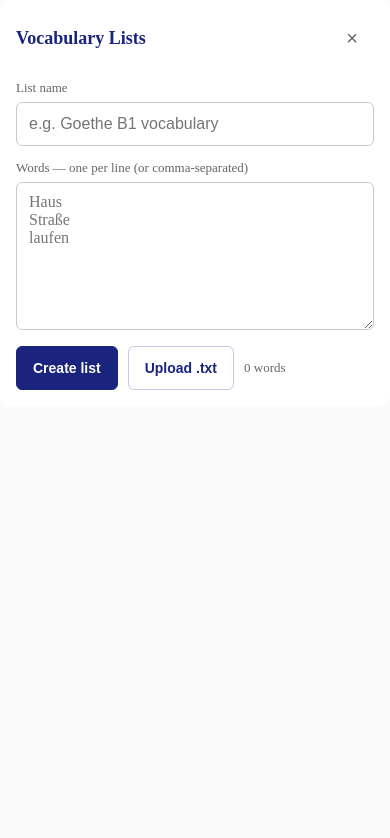
Test: WordListsPage › explains ambiguous entries separately from unresolved ones
This screenshot has width=390, height=838.
In the text box with test id "word-list-input": (195, 256) [16,182,374,330], type "Bank"
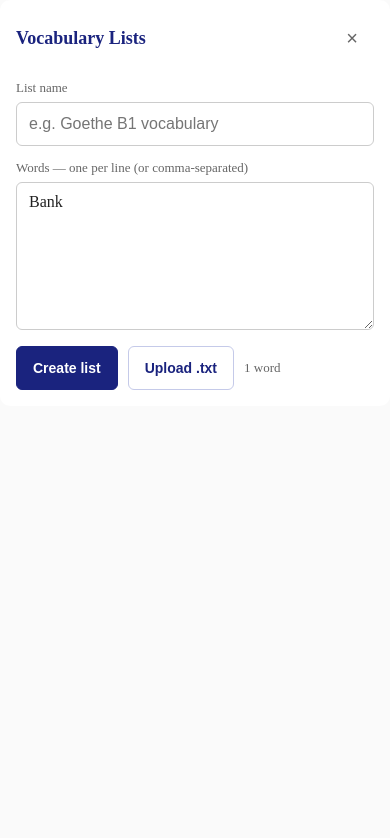
Click the button with test id "word-list-create": click(67, 368) [16,346,118,390]
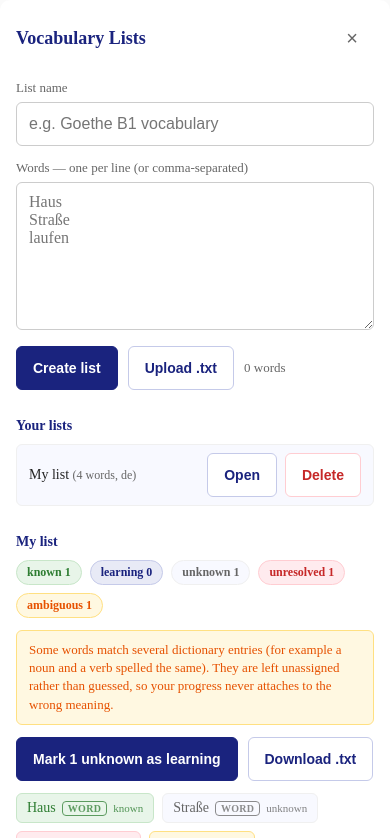
Check: the text with test id "word-list-ambiguous-note" is shown, box [16,630,374,725]
Check: the text with test id "word-list-ambiguous-note" shows "several dictionary entries", box [29,642,342,712]
